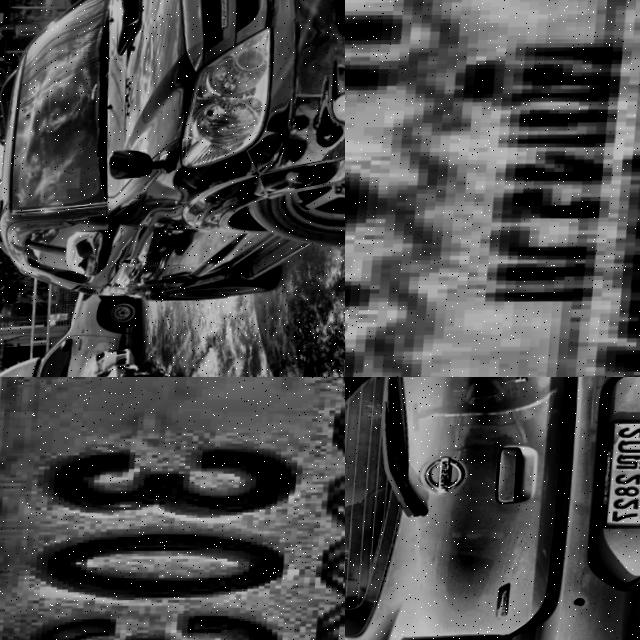license-plate: (345, 0, 640, 377), (0, 377, 345, 640), (598, 418, 640, 532)
